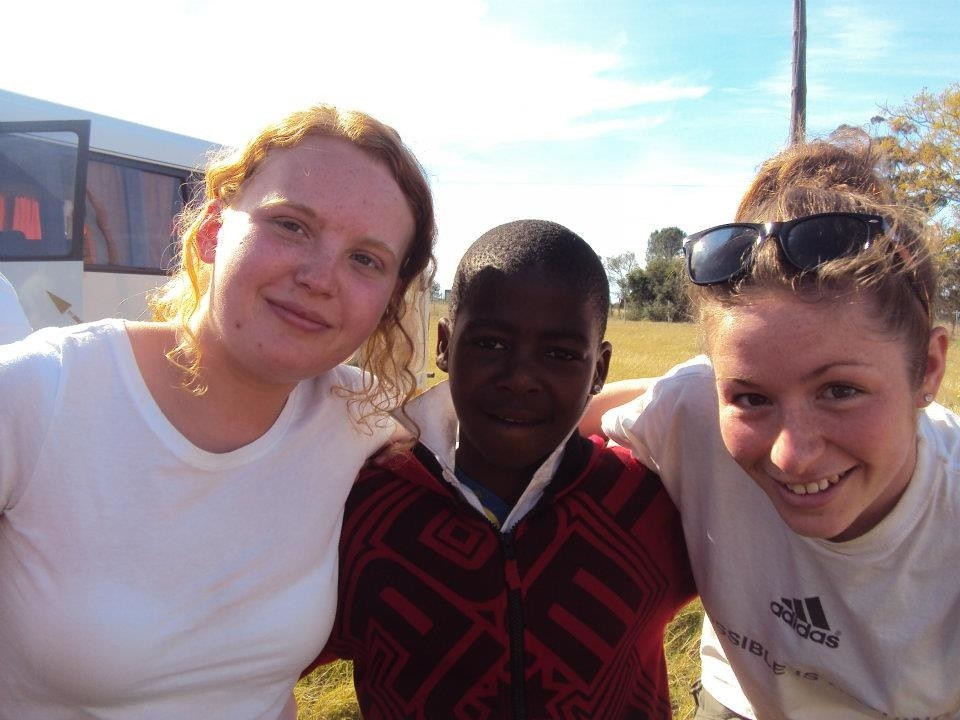face_no_mask: (709, 151, 943, 539), (187, 105, 432, 377), (440, 220, 612, 462)
